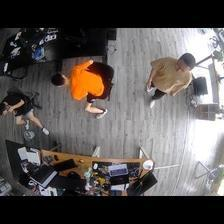normal: (51, 57, 111, 119), (145, 47, 195, 111), (1, 87, 49, 142)
